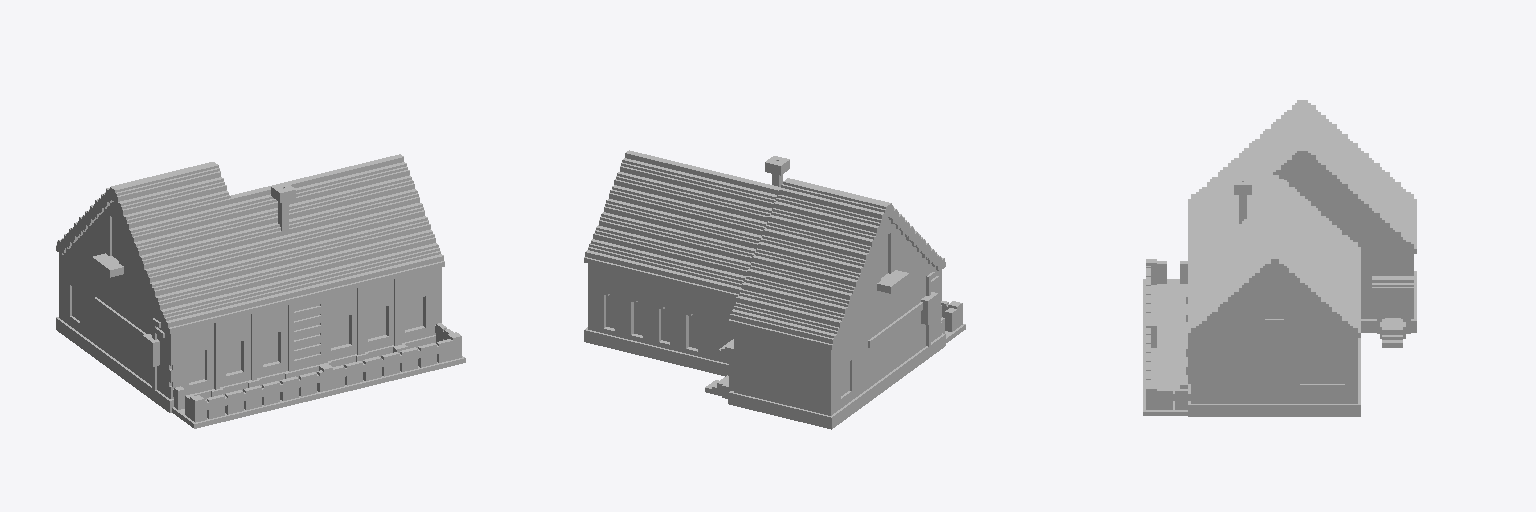
File: casa 2.obj
The picture shows the model from 3 angles: view 1: azimuth 30°, elevation 25°; view 2: azimuth 150°, elevation 25°; view 3: azimuth 270°, elevation 25°; orthographic projection.
Visible parts, largest first — view 1: object 1; view 2: object 1; view 3: object 1.
Part boxes in pixels (x1,y1,x2,y2): object 1: (56,154,465,428); object 1: (584,150,965,429); object 1: (1143,100,1416,416).
Bounding box in the file's own units: 12.5 × 7.6 × 10.3.